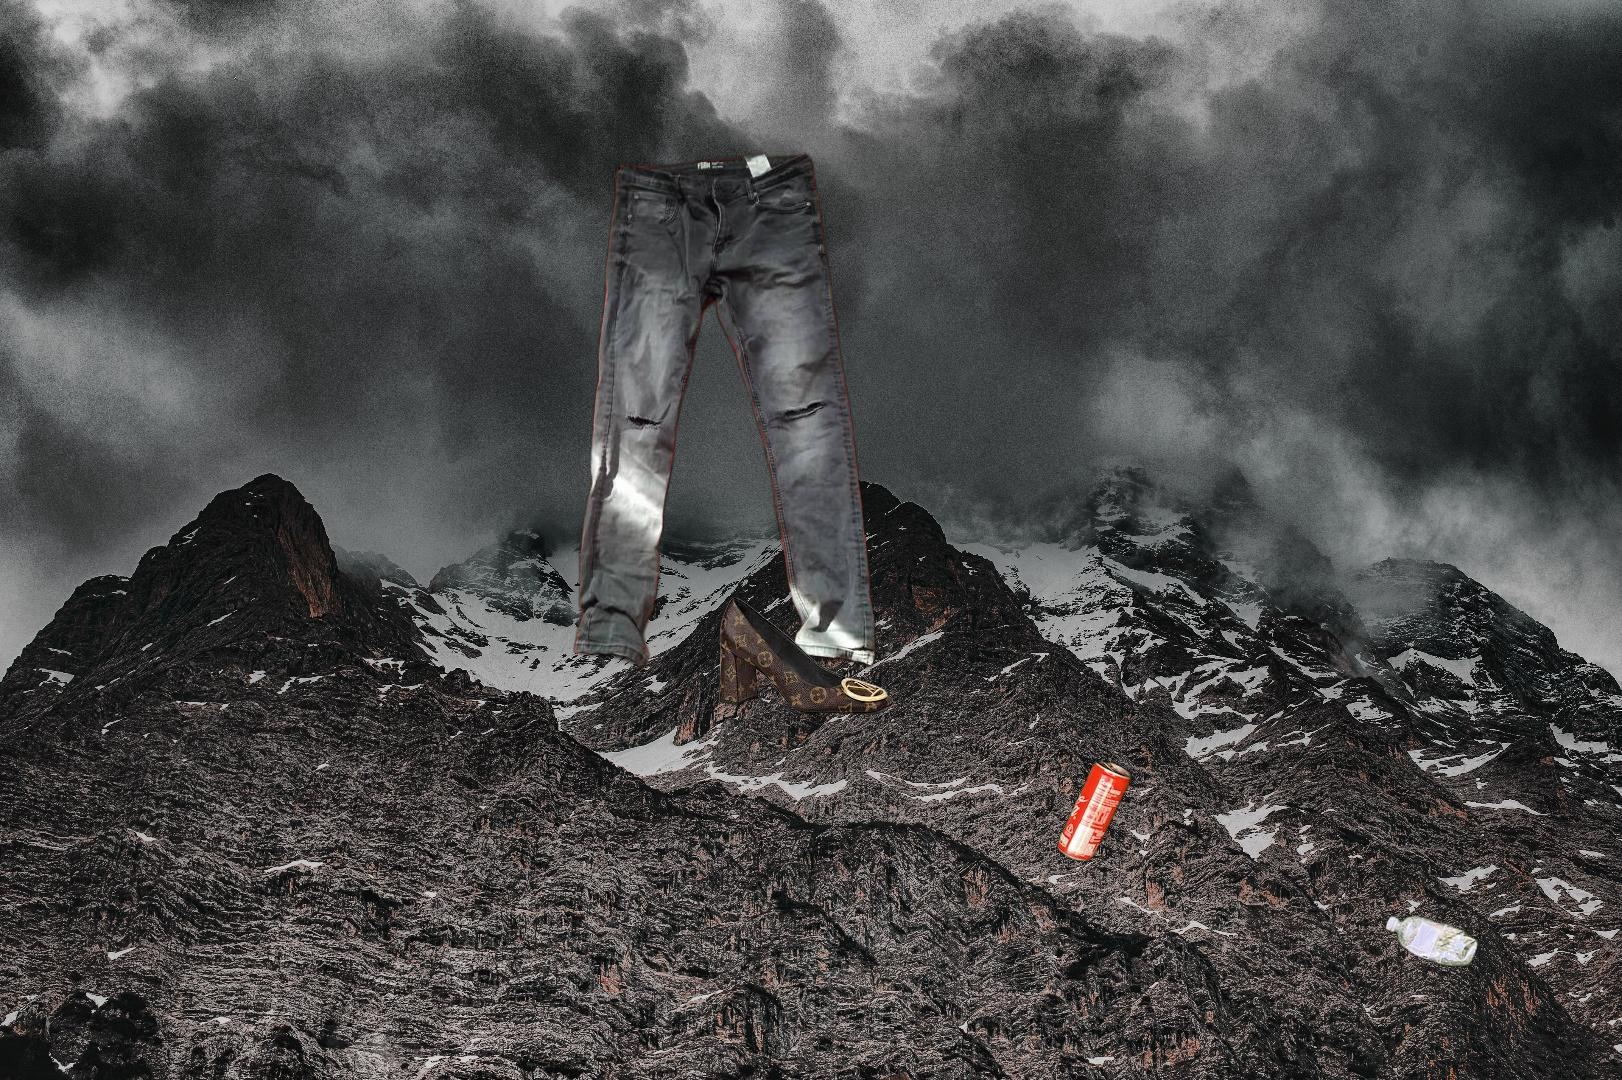clothes: (571, 148, 880, 716)
metal-cans: (1053, 755, 1138, 868)
plastic-bottles: (1381, 910, 1482, 973)
shoes: (716, 595, 897, 717)
